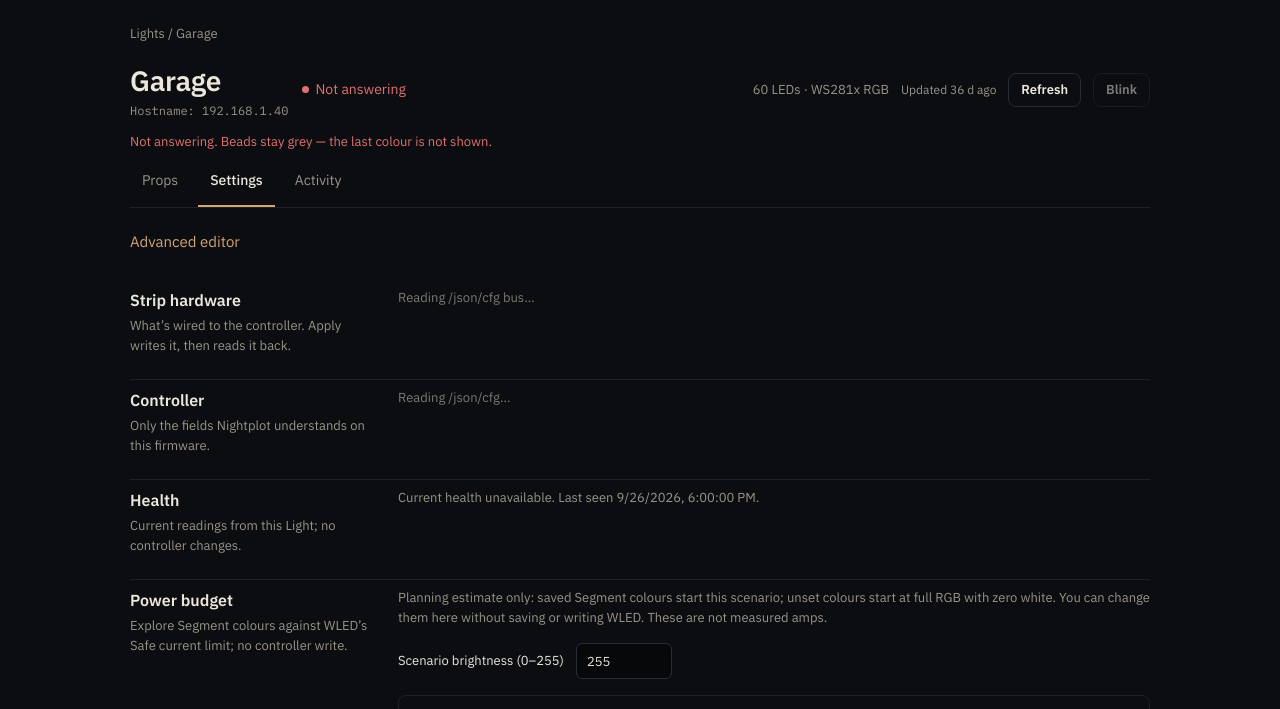
Scenario: LightDetail Refresh › Refresh probes this Light only — never the enrolled list
Click the button "Refresh". click: (1045,90)
box: [1008, 72, 1081, 106]
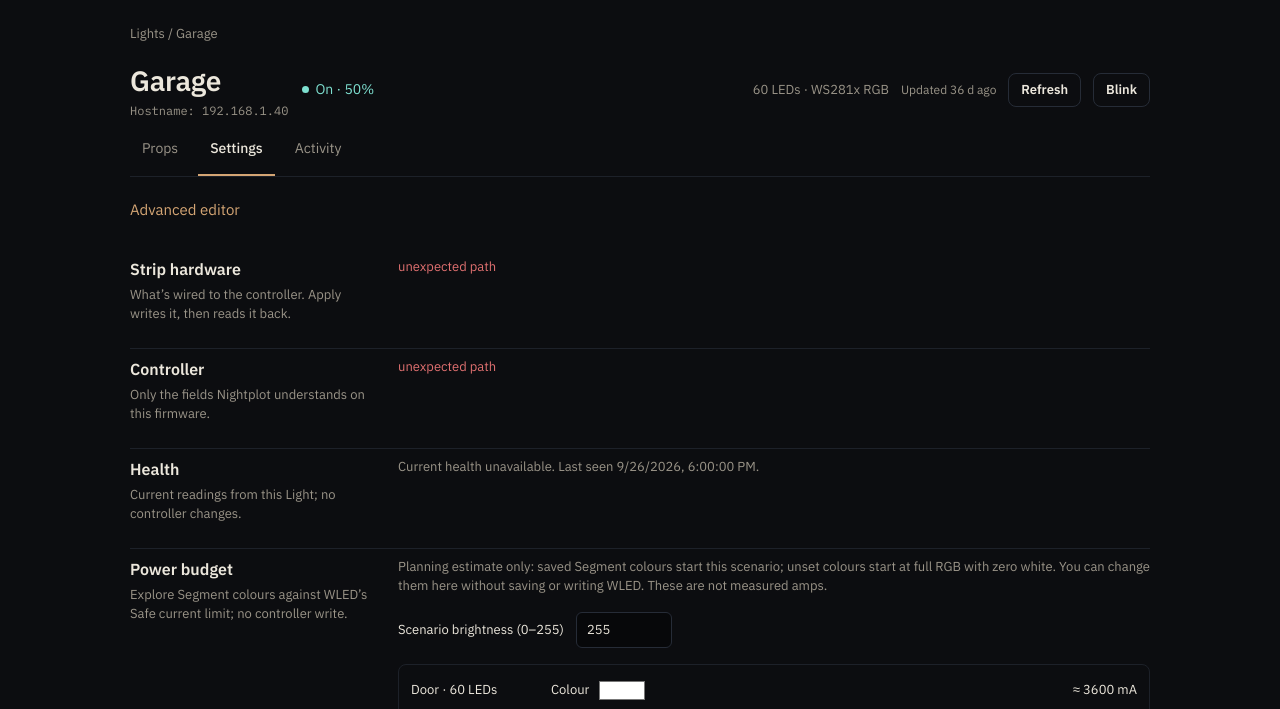
Check: the text "On · 50%" is shown, box [302, 79, 374, 100]
